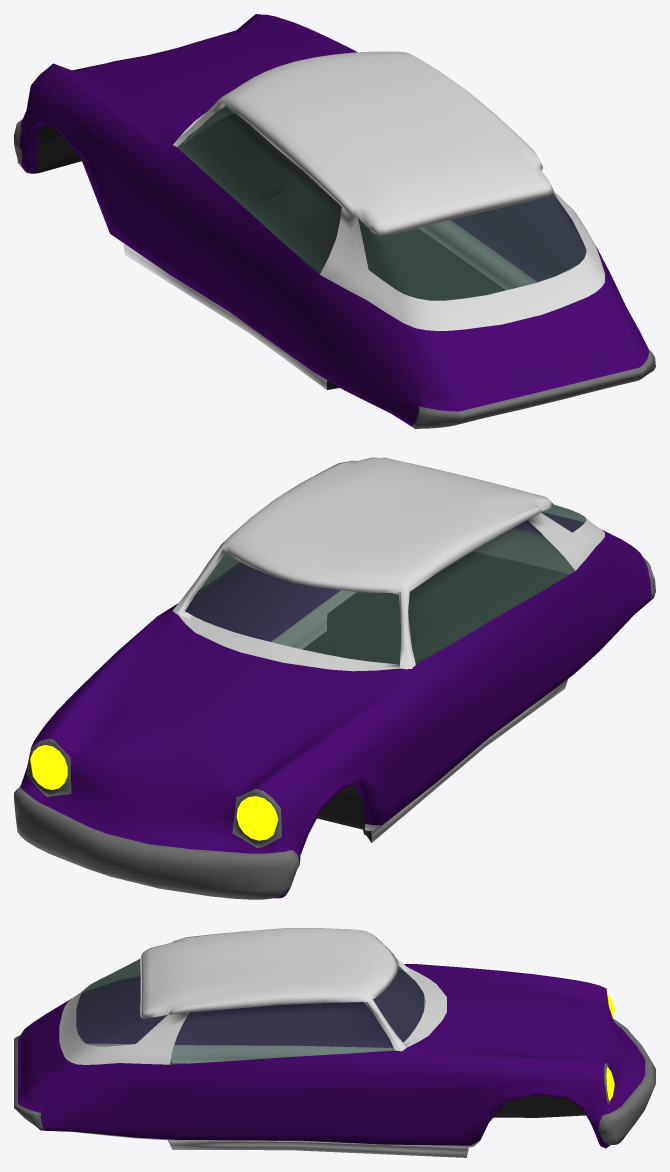
3 renders of one model, top to bottom at view 1: azimuth 30°, elevation 25°; view 2: azimuth 150°, elevation 25°; view 3: azimuth 270°, elevation 25°, orthographic. The views are drawn at different scales.
Visible parts, largest first — view 1: DS; view 2: DS; view 3: DS.
Part boxes in pixels (left/top/right/bottom): DS: left=14, top=14, right=655, bottom=428; DS: left=14, top=457, right=655, bottom=899; DS: left=14, top=928, right=655, bottom=1157.
Size of the model in its own units: 166 by 116 by 435.
